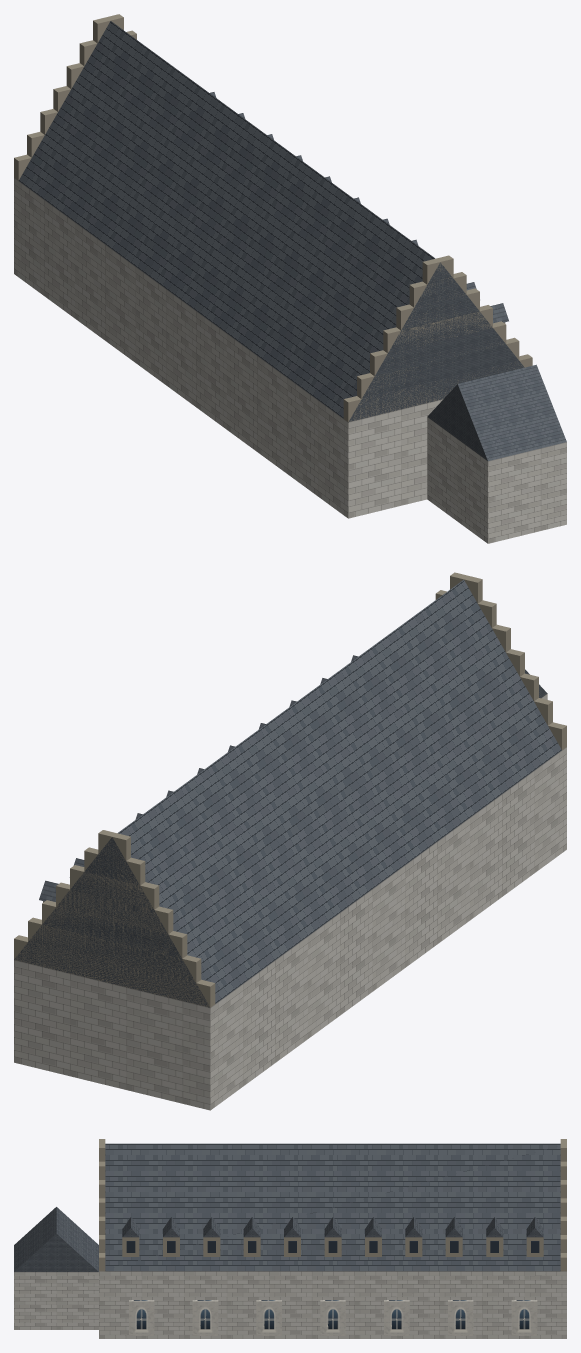
The model's file is vleeshuis.obj.
3 renders of one model, top to bottom at view 1: azimuth 30°, elevation 25°; view 2: azimuth 150°, elevation 25°; view 3: azimuth 270°, elevation 25°, orthographic. The views are drawn at different scales.
Visible parts, largest first — view 1: part2, part1, part57, part58, part46, part43, part44; view 2: part2, part1, part36, part37, part39, part38, part40, part41, part42; view 3: part2, part1, part57, part58, part50.nocast, part55.nocast, part51.nocast, part52.nocast, part53.nocast, part54.nocast, part56.nocast, part4 (+7 smaller).
Boxes of the visible parts, box(x1,y1,x2,y2) form: part2: box(18, 21, 524, 422); part1: box(14, 178, 443, 518); part57: box(427, 417, 566, 543); part58: box(427, 364, 566, 461); part46: box(383, 305, 492, 353); part43: box(343, 354, 532, 421); part44: box(357, 337, 519, 399); part2: box(14, 579, 561, 1007); part1: box(14, 747, 566, 1110); part36: box(14, 935, 215, 1007); part37: box(28, 917, 201, 983); part39: box(56, 882, 173, 934); part38: box(42, 900, 187, 958); part40: box(70, 865, 159, 909); part41: box(84, 847, 145, 885); part42: box(98, 830, 130, 860); part2: box(105, 1143, 560, 1271); part1: box(99, 1271, 566, 1338); part57: box(14, 1272, 98, 1329); part58: box(14, 1207, 98, 1271); part50.nocast: box(511, 1300, 537, 1335); part55.nocast: box(192, 1300, 218, 1335); part51.nocast: box(448, 1300, 473, 1335); part52.nocast: box(384, 1300, 409, 1335); part53.nocast: box(320, 1300, 345, 1335); part54.nocast: box(256, 1300, 281, 1335); part56.nocast: box(129, 1300, 154, 1335); part4: box(526, 1217, 543, 1237).
Size of the model in its own units: 14.2 by 17.01 by 52.
Materials: 5 (3 with a texture image).
